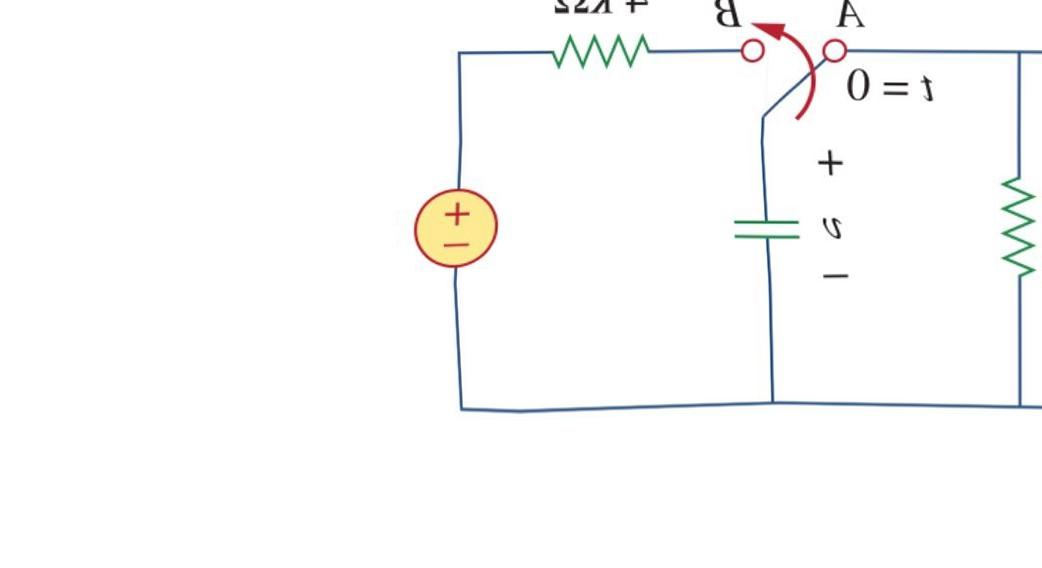Battery: (404, 171, 518, 284)
